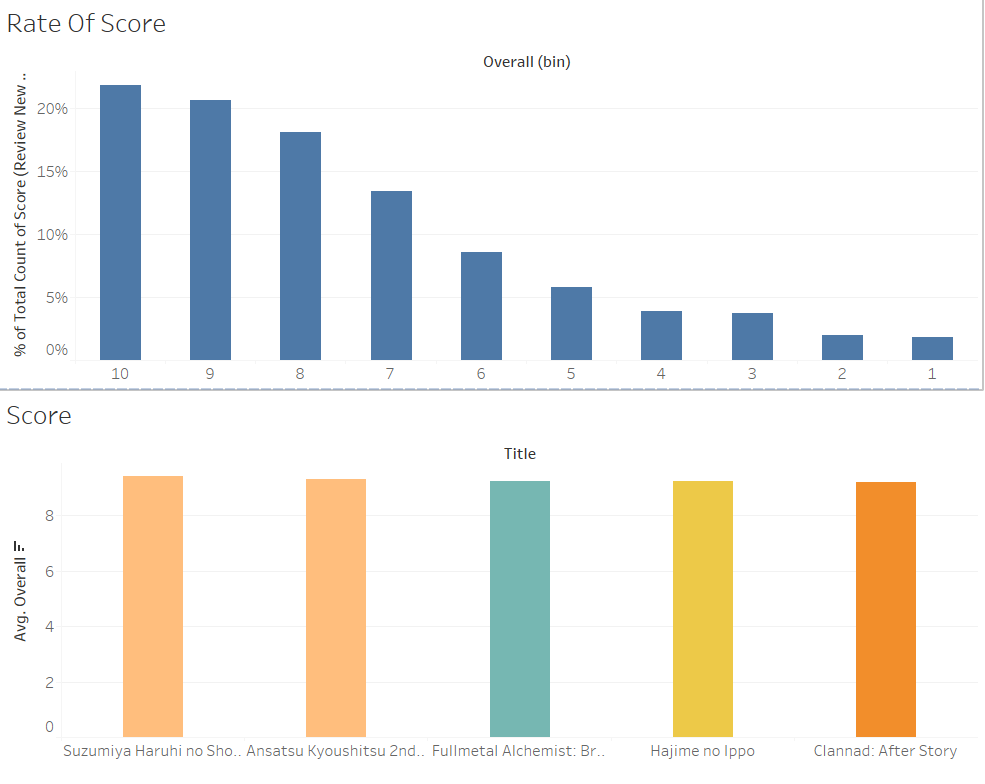

What the dashboard file says about the page in this screenshot:
{"tool":"tableau","page":{"name":"score_dashboard","canvas":[1000,800],"ordinal":6},"visuals":[{"type":"worksheet","title":"Rate Of Score","mark":"Automatic","rows":["score (review_new_1.csv)"],"cols":["Overall (bin)"],"box":[8,8,984,392]},{"type":"worksheet","title":"Score","mark":"Automatic","rows":["Overall"],"cols":["title"],"box":[8,400,984,392]}]}

Visuals, with their boxes in screenshot pixels (x1, y1, x2, y2), scaled from the page's 1000x800 canvas onto the 985x784 screenshot:
"Rate Of Score" worksheet: <box>8,8,977,392</box>
"Score" worksheet: <box>8,392,977,776</box>
